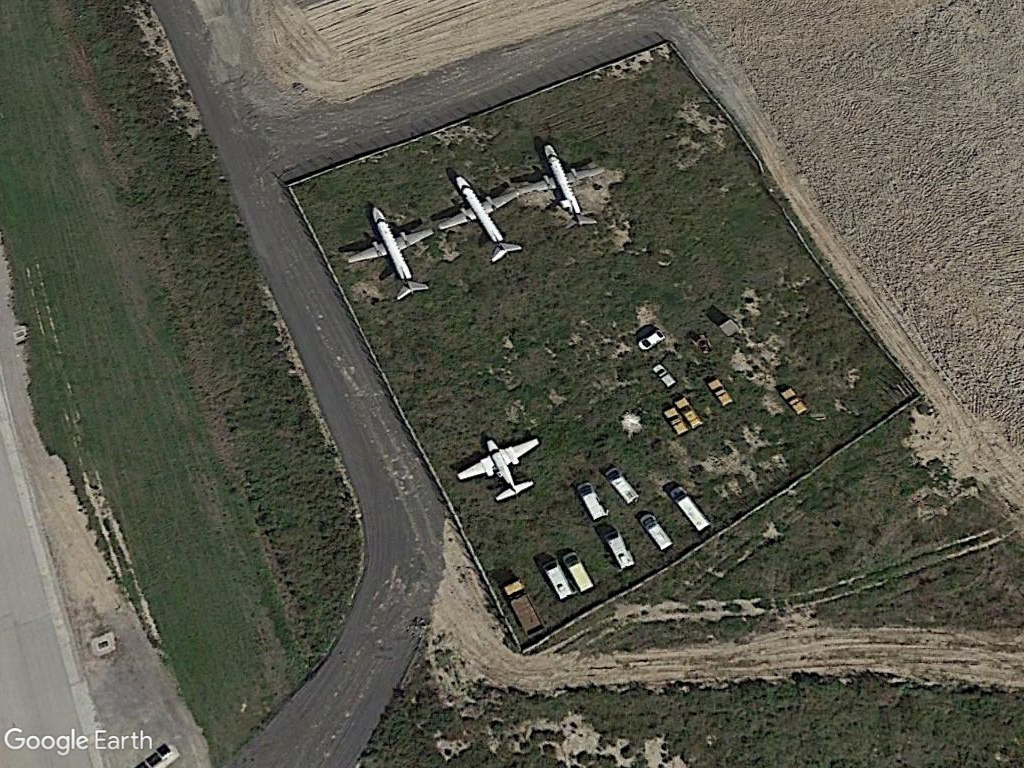trainer: (448, 436, 542, 503)
truck: (497, 576, 546, 640)
van: (664, 483, 714, 535), (598, 465, 643, 510), (559, 545, 597, 595), (634, 510, 675, 555), (572, 480, 609, 520)
